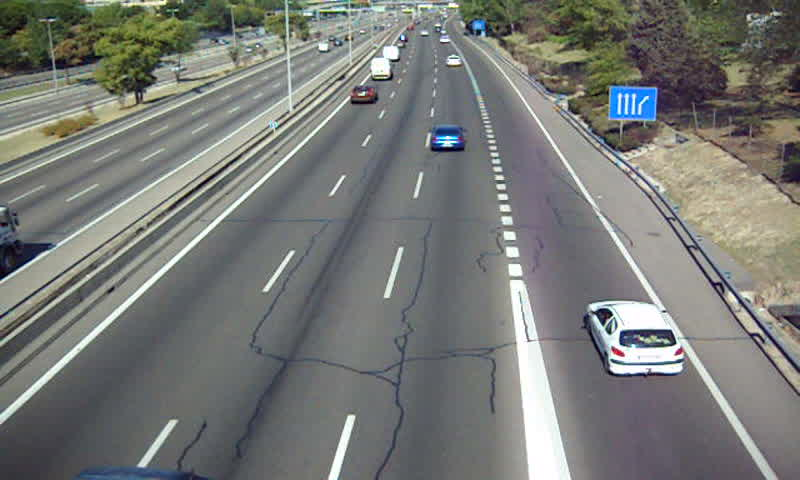car: (588, 300, 685, 378), (428, 123, 468, 152), (349, 85, 378, 106)
van: (368, 57, 394, 81), (384, 45, 400, 60)
